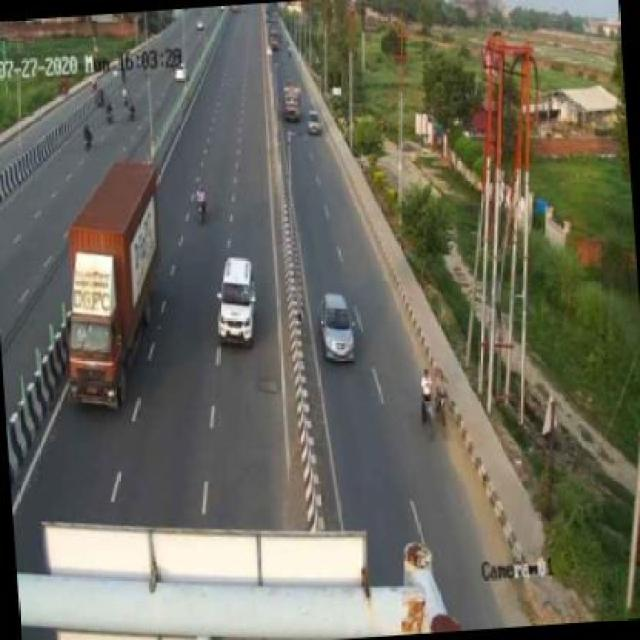car: (212, 255, 262, 352), (312, 284, 358, 374), (415, 361, 437, 437), (304, 108, 322, 142)
